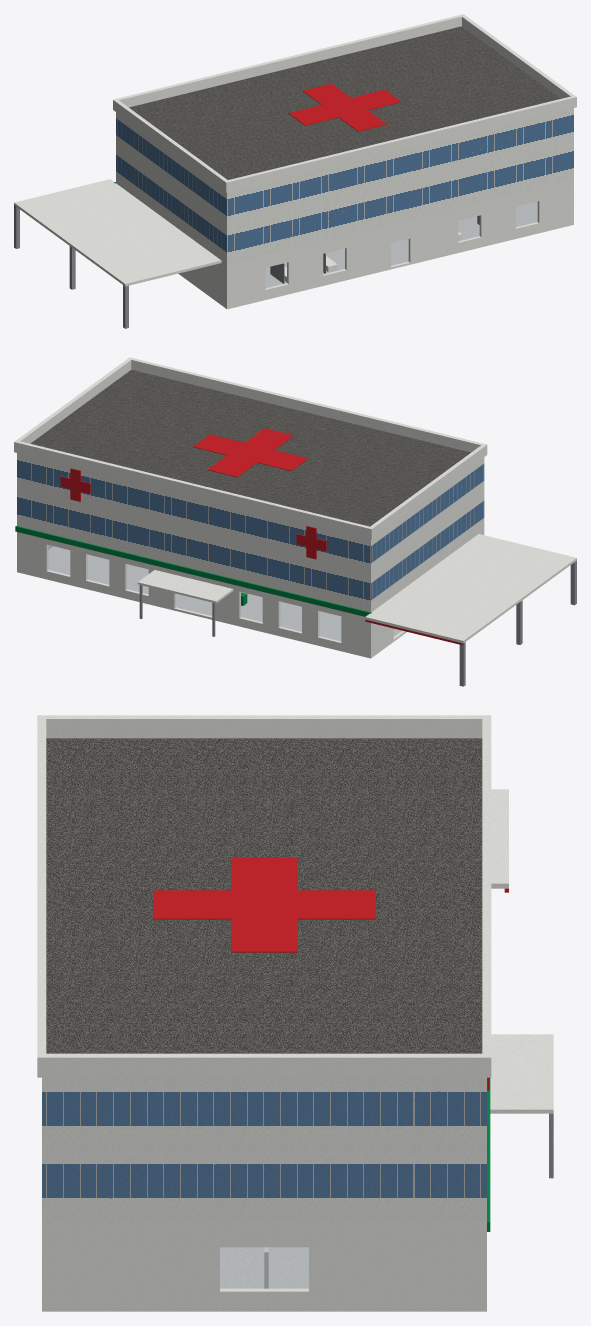
Rendered from hospital.glb.
The picture shows the model from 3 angles, top to bottom: view 1: azimuth 30°, elevation 25°; view 2: azimuth 150°, elevation 25°; view 3: azimuth 270°, elevation 25°; orthographic projection. The views are drawn at different scales.
Visible parts, largest first — view 1: hospital; view 2: hospital; view 3: hospital.
Boxes of the visible parts, x1,y1,x2,y2 form: hospital: (14,14,576,328); hospital: (14,357,576,686); hospital: (37,715,553,1311).
Bounding box in the file's own units: 46.2 × 12.7 × 23.2.
Materials: 9 (9 with a texture image).
